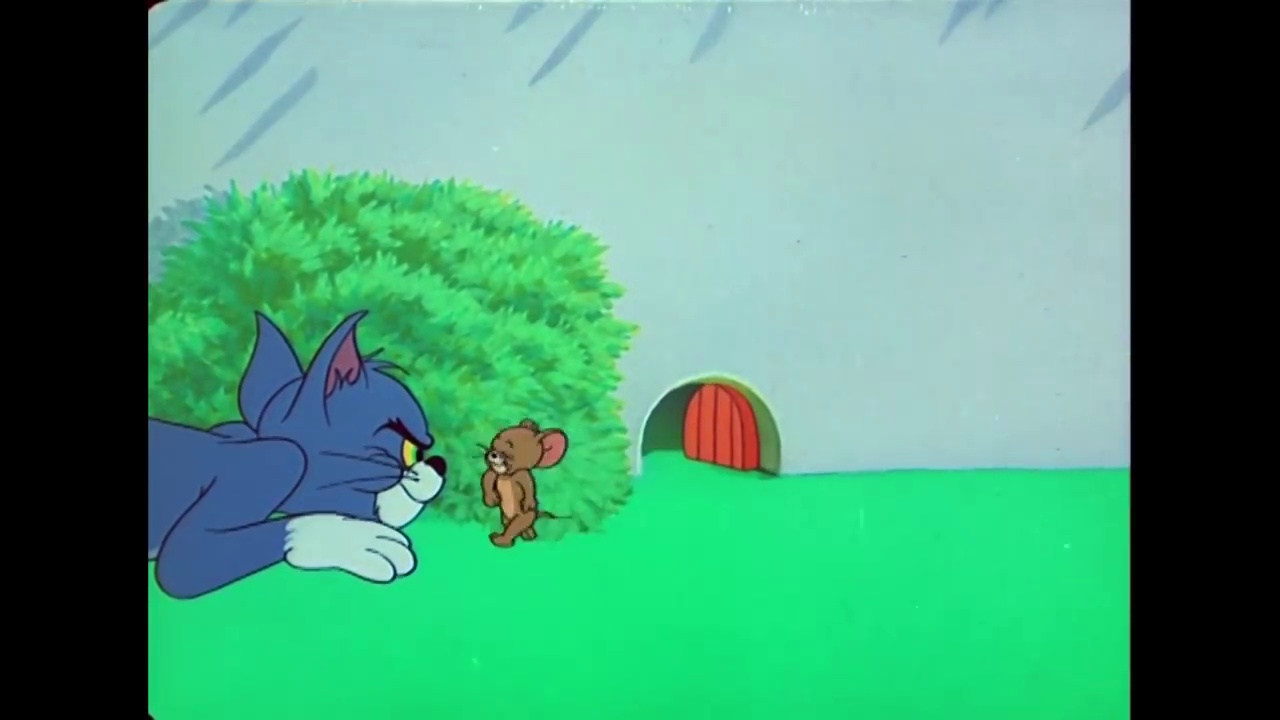tom: (232, 302, 452, 533)
